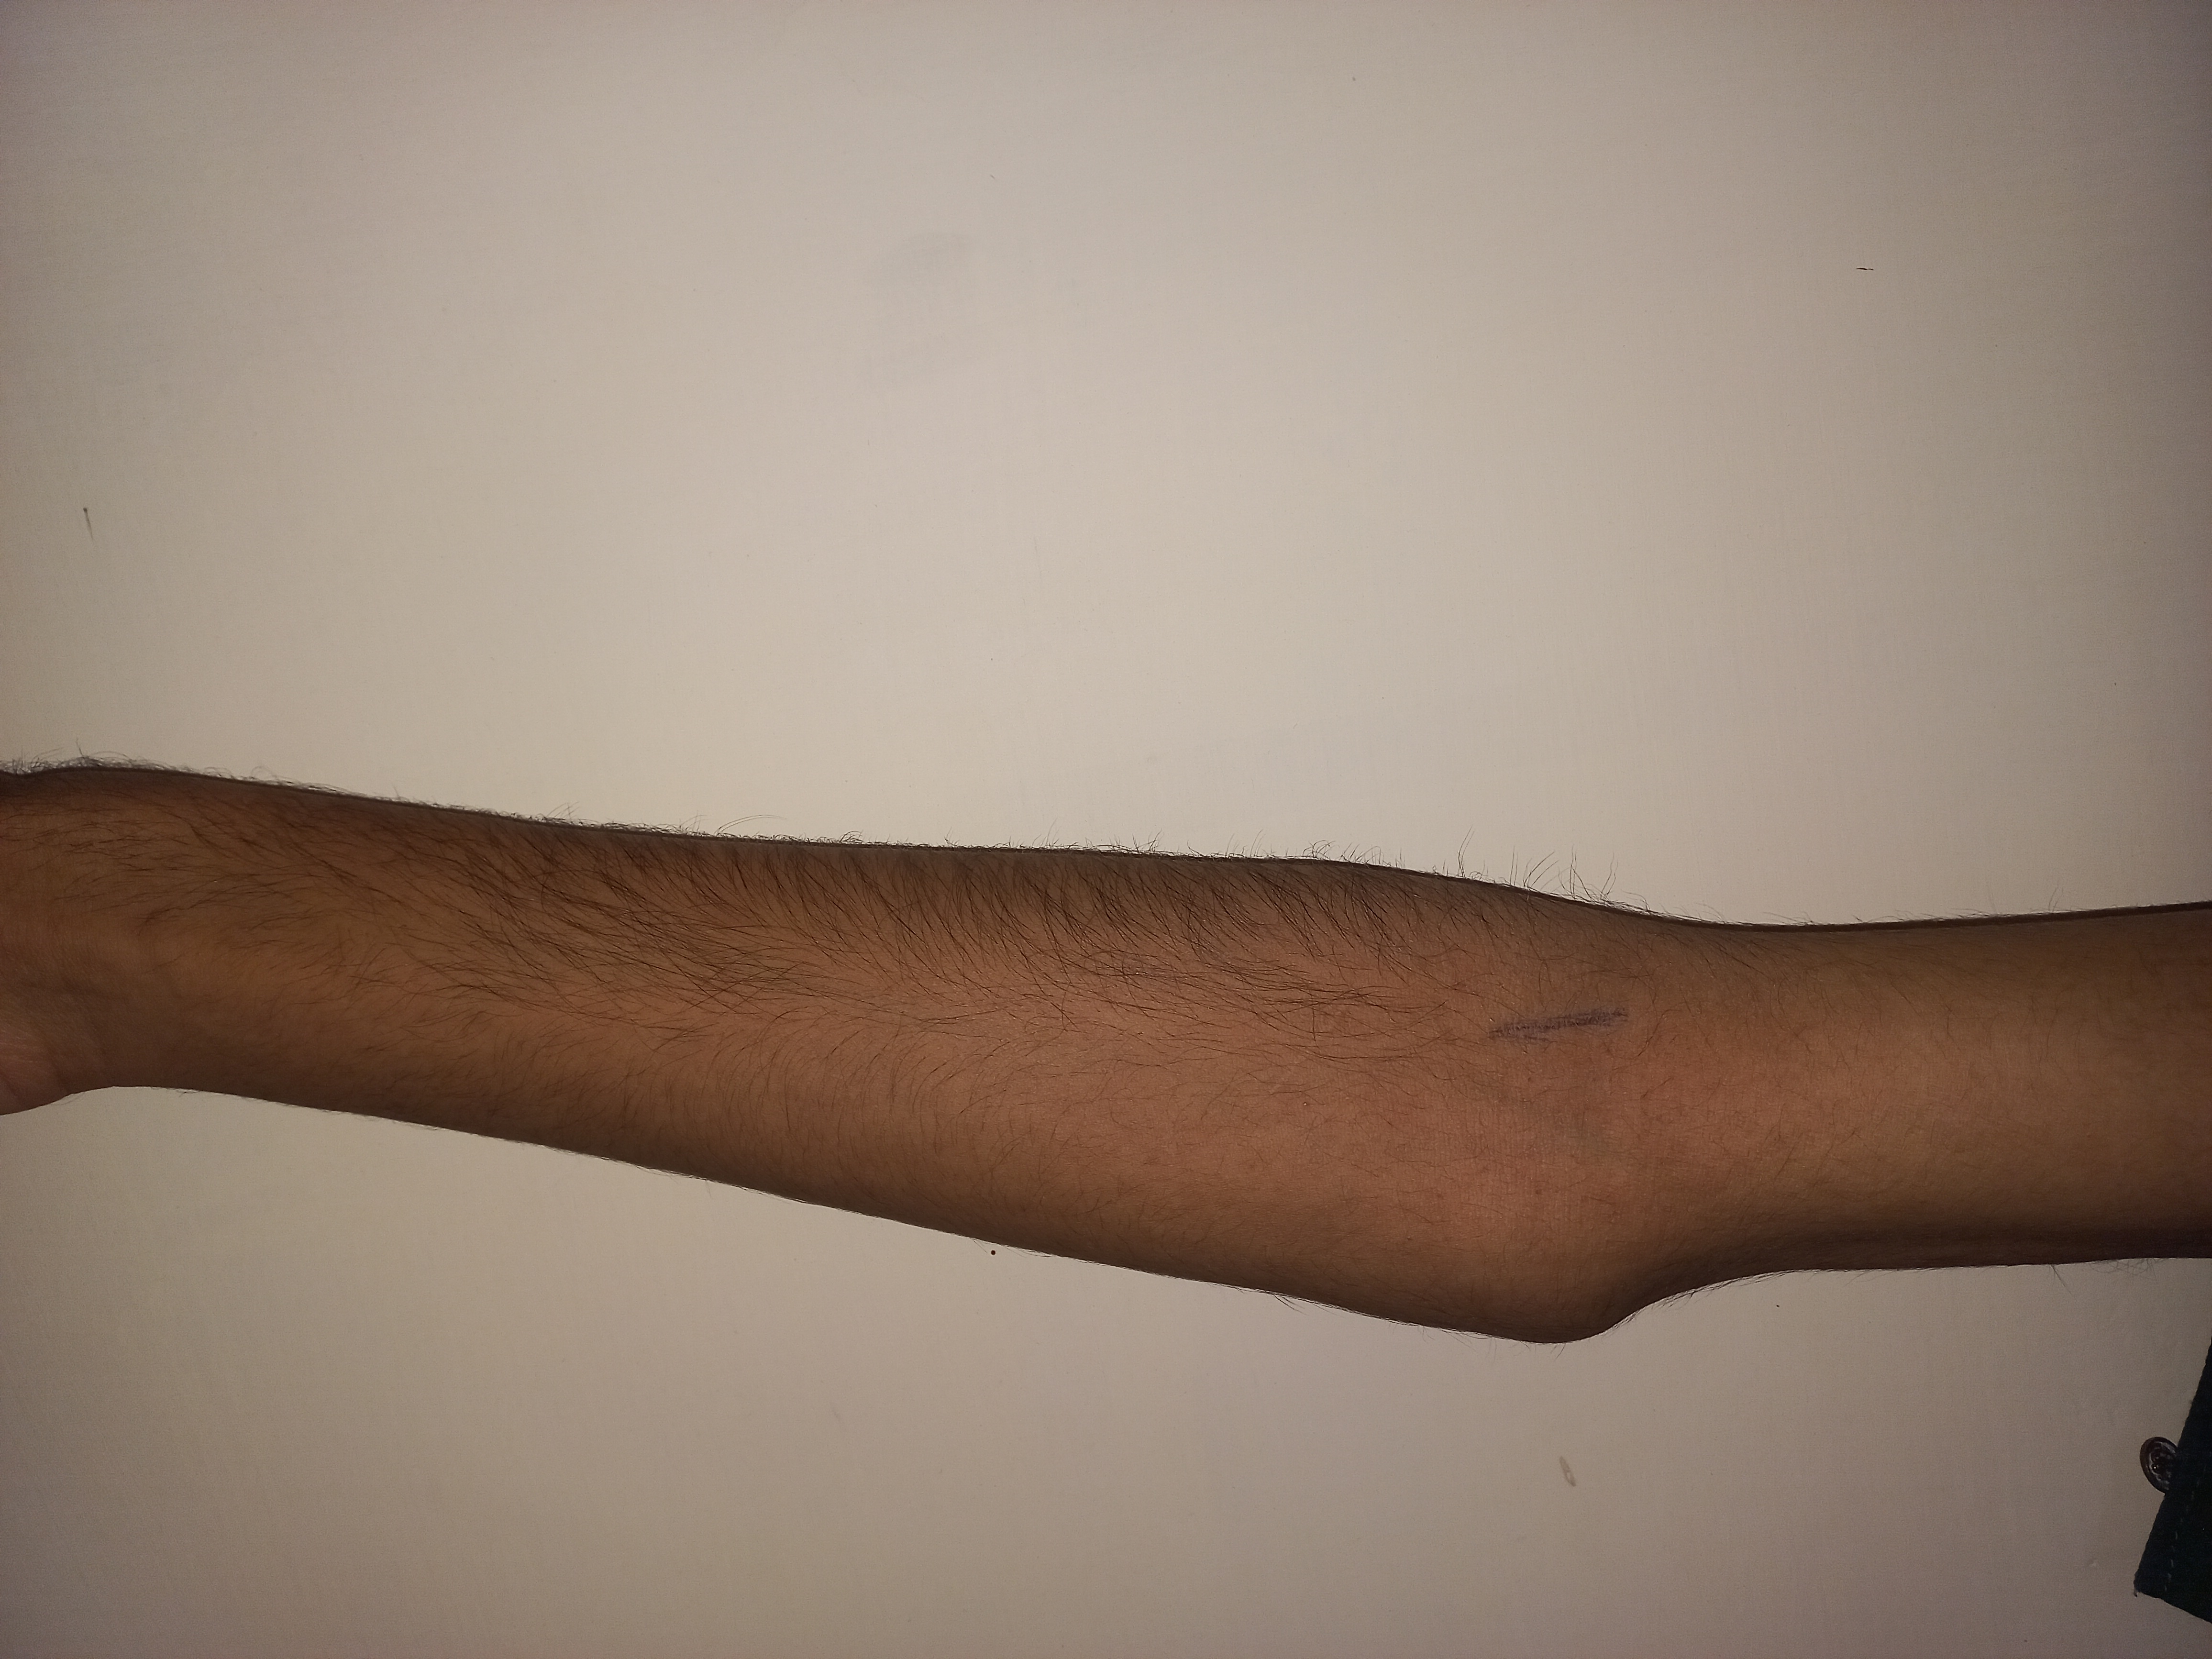vein: (1475, 999, 1672, 1058)
